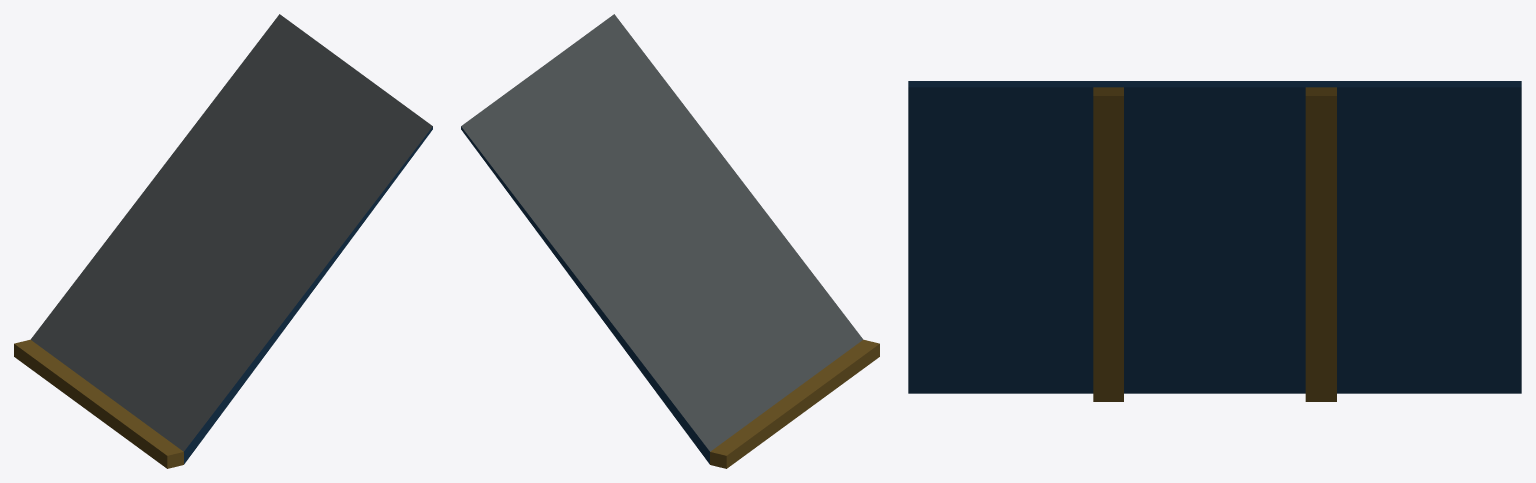
Rendered from Roof.fbx.
The picture shows the model from 3 angles, left to right: view 1: azimuth 30°, elevation 25°; view 2: azimuth 150°, elevation 25°; view 3: azimuth 270°, elevation 25°; orthographic projection. The views are drawn at different scales.
Visible parts, largest first — view 1: pCube58; view 2: pCube58; view 3: pCube58.
Part boxes in pixels (x1=…): pCube58: x1=14, y1=14, x2=432, y2=468; pCube58: x1=461, y1=14, x2=879, y2=468; pCube58: x1=908, y1=81, x2=1521, y2=401.
Bounding box in the file's own units: 3 × 3 × 3.
